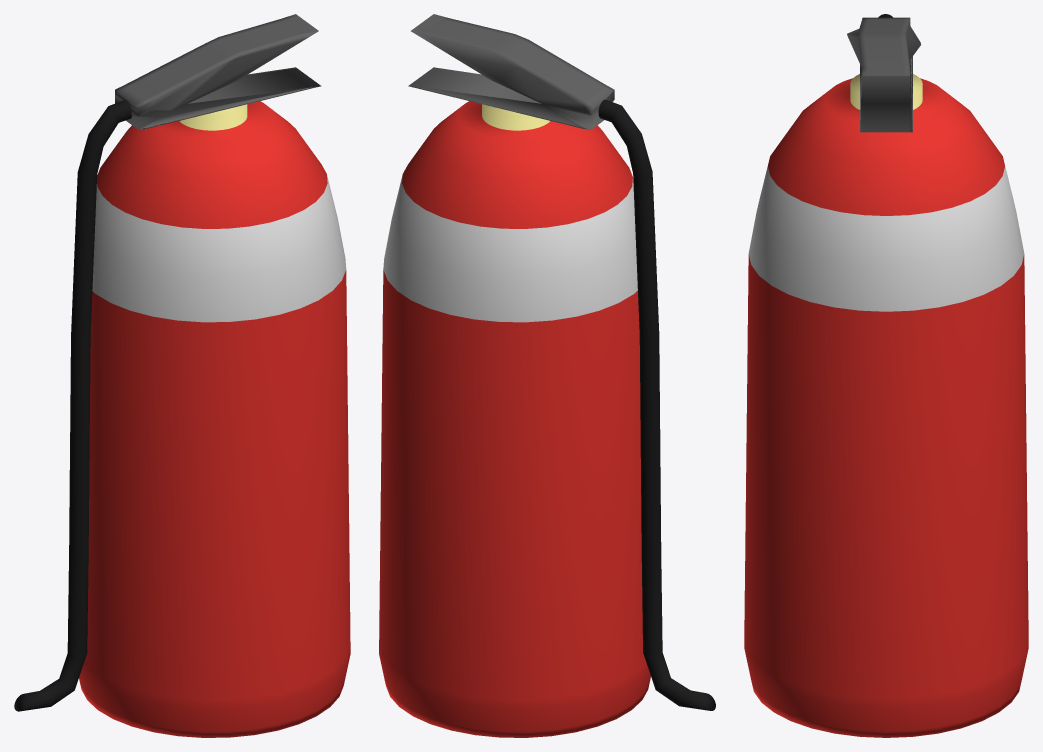
The model's file is yangin-sondurme-aleti.fbx.
3 views of the same model, side by side, from view 1: azimuth 30°, elevation 25°; view 2: azimuth 150°, elevation 25°; view 3: azimuth 270°, elevation 25° (orthographic). The views are drawn at different scales.
Parts seen in each view (by area): view 1: Circle.001; view 2: Circle.001; view 3: Circle.001.
Boxes of the visible parts, <box> form: Circle.001: <box>14,14,350,737</box>; Circle.001: <box>379,14,715,737</box>; Circle.001: <box>744,14,1028,737</box>.
Bounding box in the file's own units: 45.44 × 87.35 × 34.52.
